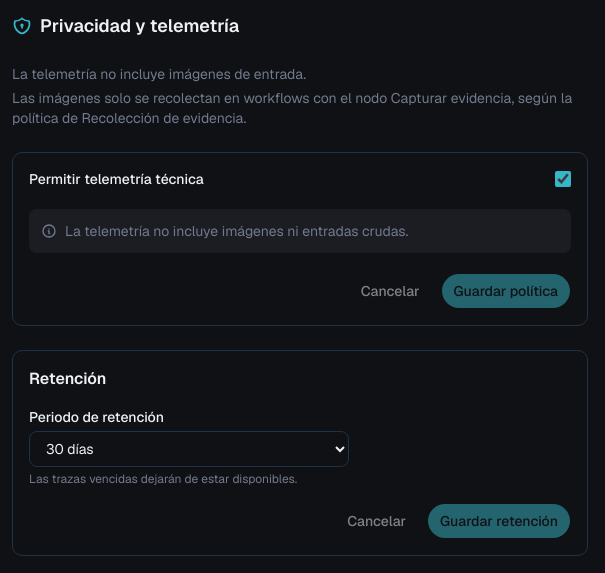
Test: US-112: Aplicar retención de telemetría › saves only the retention period and keeps the switch
Expected: the switch labelled "Permitir telemetría técnica" is shown, x1=555 y1=171 x2=571 y2=187
Select "7 días" in the dropdown labelled "Periodo de retención" at (189, 449), box x1=29 y1=431 x2=349 y2=467
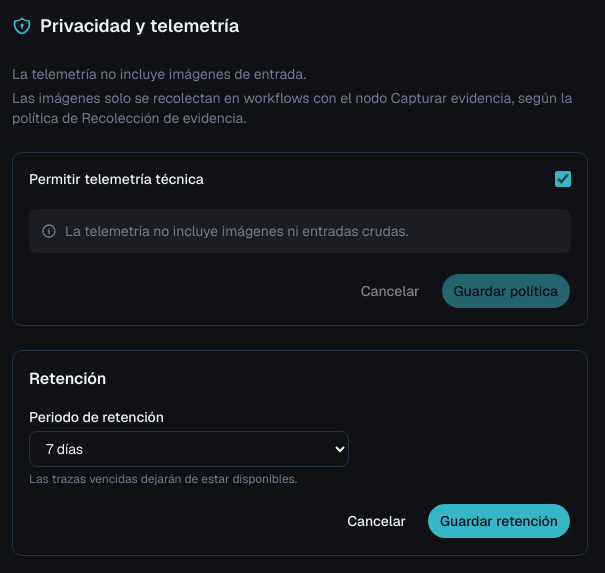
Click the button "Guardar retención" at (499, 521), box x1=427 y1=503 x2=571 y2=539
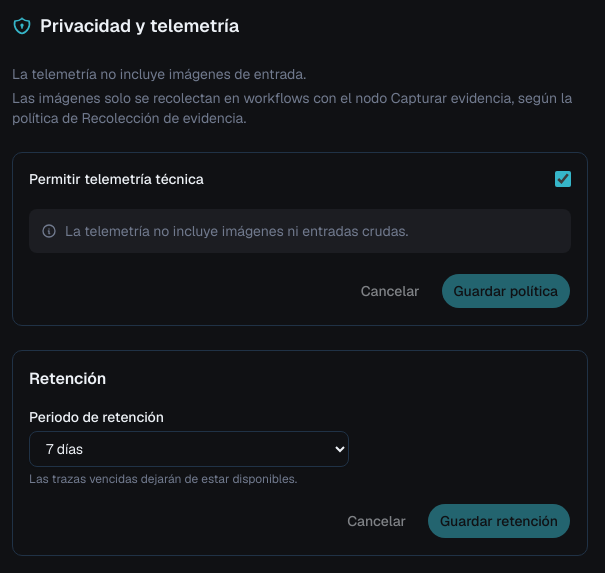
Expected: the switch labelled "Permitir telemetría técnica" is checked, x1=555 y1=171 x2=571 y2=187
Result: the button "Guardar retención" is disabled at x1=427 y1=503 x2=571 y2=539
